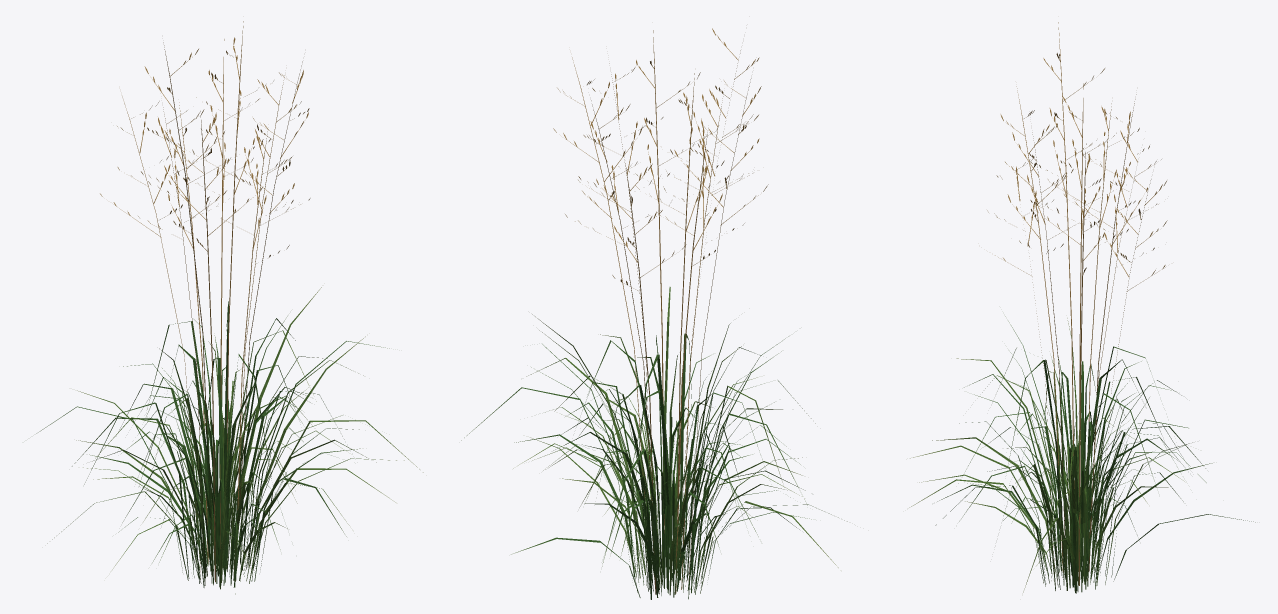
Rendered from tufted-hairgrass.glb.
3 renders of one model, left to right at view 1: azimuth 30°, elevation 25°; view 2: azimuth 150°, elevation 25°; view 3: azimuth 270°, elevation 25°, orthographic. The views are drawn at different scales.
Visible parts, largest first — view 1: Tufted Hairgrass; view 2: Tufted Hairgrass; view 3: Tufted Hairgrass.
Part boxes in pixels (<box>): Tufted Hairgrass: <box>36,21,423,594</box>; Tufted Hairgrass: <box>461,28,847,599</box>; Tufted Hairgrass: <box>909,22,1255,593</box>.
Size of the model in its own units: 0.6337 by 0.9567 by 0.5887.
1 material, 1 textured.
